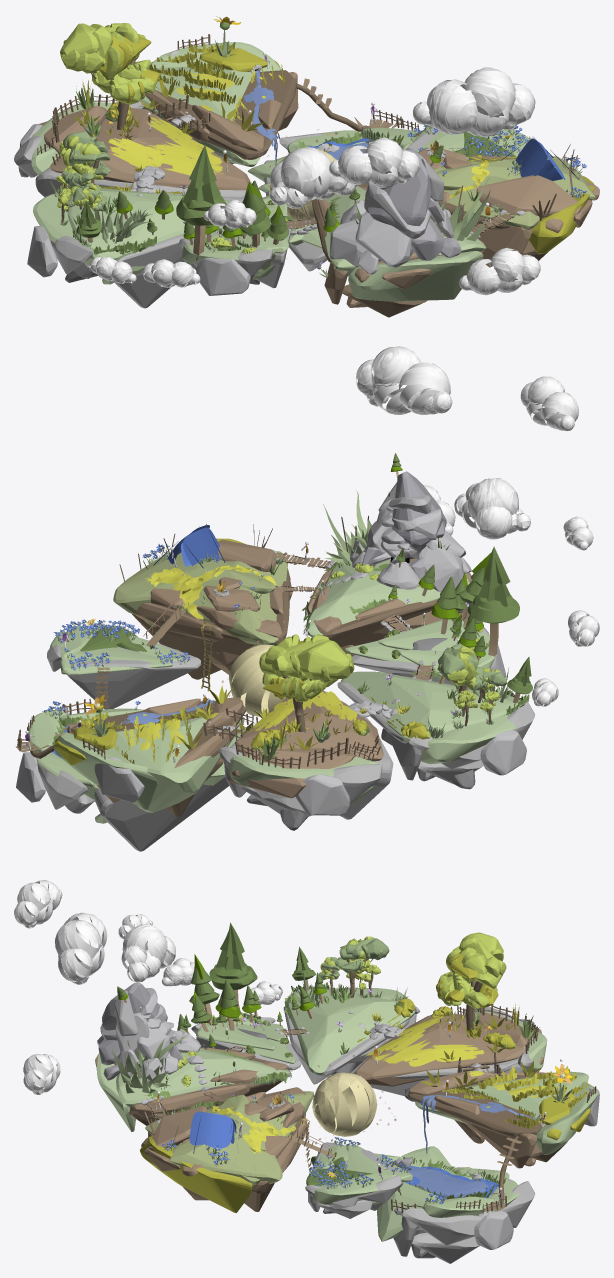
The model's file is island.glb.
3 views of the same model, one above another, from view 1: azimuth 30°, elevation 25°; view 2: azimuth 150°, elevation 25°; view 3: azimuth 270°, elevation 25° (orthographic). The views are drawn at different scales.
Visible parts, largest first — view 1: Object_4, Object_8, Object_19, Object_27, Object_15, Object_23, Object_21; view 2: Object_4, Object_8, Object_19, Object_27, Object_23, Object_21; view 3: Object_4, Object_8, Object_19, Object_27, Object_15, Object_23, Object_21.
Boxes of the visible parts, box(x1,y1,x2,y2) form: Object_4: box(14, 23, 599, 317); Object_8: box(38, 22, 585, 295); Object_19: box(72, 41, 516, 255); Object_27: box(50, 30, 584, 276); Object_15: box(244, 70, 371, 165); Object_23: box(109, 16, 586, 269); Object_21: box(303, 78, 424, 136); Object_4: box(16, 453, 534, 851); Object_8: box(19, 346, 599, 765); Object_19: box(52, 562, 529, 763); Object_27: box(46, 471, 531, 738); Object_23: box(42, 538, 469, 732); Object_21: box(15, 608, 185, 752); Object_4: box(95, 932, 599, 1263); Object_8: box(14, 880, 595, 1209); Object_19: box(144, 982, 588, 1199); Object_27: box(112, 922, 561, 1203); Object_15: box(399, 1095, 538, 1199); Object_23: box(162, 989, 572, 1204); Object_21: box(288, 1134, 522, 1211).
Size of the model in its own units: 0.8807 by 0.6496 by 1.1.
Materials: 10 (8 with a texture image).
